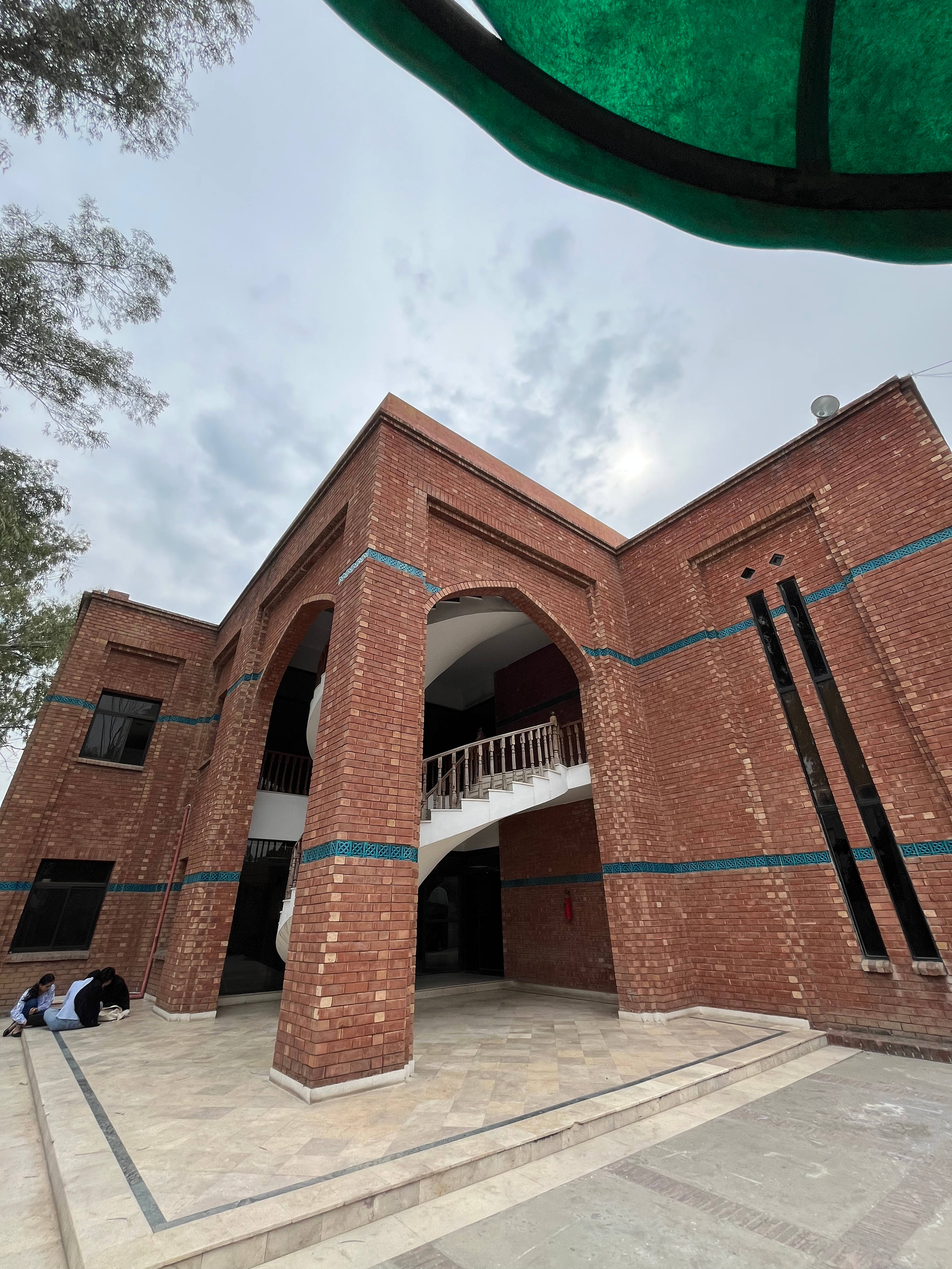Block A: (29, 400, 952, 1086)
